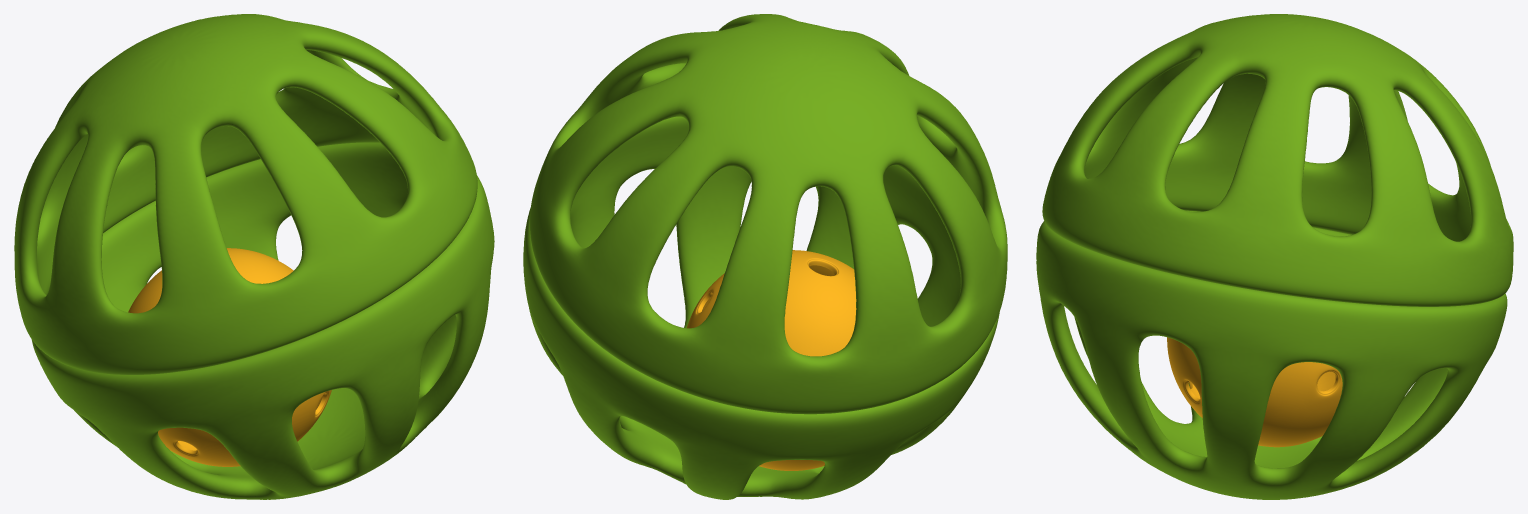
3 views of the same model, side by side, from view 1: azimuth 30°, elevation 25°; view 2: azimuth 150°, elevation 25°; view 3: azimuth 270°, elevation 25° (orthographic).
Parts seen in each view (by area): view 1: Sphere, Sphere.001, Sphere.003; view 2: Sphere, Sphere.001, Sphere.003; view 3: Sphere, Sphere.001, Sphere.003.
Boxes of the visible parts, x1,y1,x2,y2 form: Sphere: (14, 14, 477, 374); Sphere.001: (31, 142, 494, 499); Sphere.003: (128, 248, 331, 466); Sphere: (529, 14, 1007, 414); Sphere.001: (523, 116, 999, 499); Sphere.003: (687, 250, 856, 470); Sphere: (1042, 14, 1513, 306); Sphere.001: (1036, 210, 1507, 499); Sphere.003: (1167, 337, 1342, 447).
Size of the model in its own units: 5.53 by 5.61 by 5.53.
